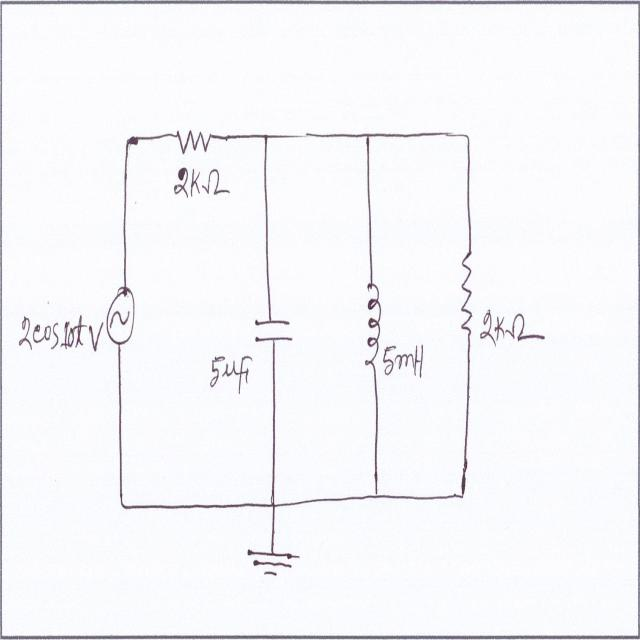ac_current: (103, 279, 136, 353)
capacitor: (252, 310, 296, 350)
ground: (242, 540, 304, 592)
inductor: (361, 276, 383, 377)
resistor: (174, 100, 217, 163), (457, 247, 479, 351)
